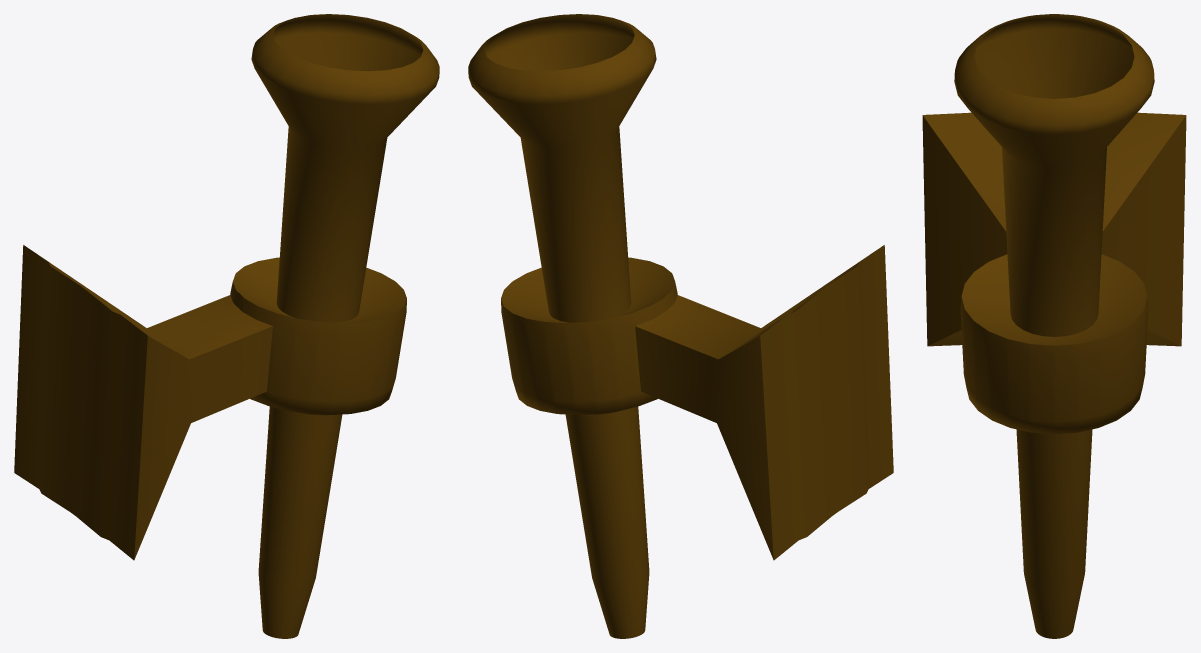
File: broken_torch.fbx
The picture shows the model from 3 angles, left to right: view 1: azimuth 30°, elevation 25°; view 2: azimuth 150°, elevation 25°; view 3: azimuth 270°, elevation 25°; orthographic projection. The views are drawn at different scales.
Parts seen in each view (by area): view 1: Torch; view 2: Torch; view 3: Torch.
Boxes of the visible parts, <box> form: Torch: <box>14,14,439,638</box>; Torch: <box>468,14,893,638</box>; Torch: <box>922,14,1186,638</box>.
Size of the model in its own units: 49.6 by 77.67 by 30.06.
